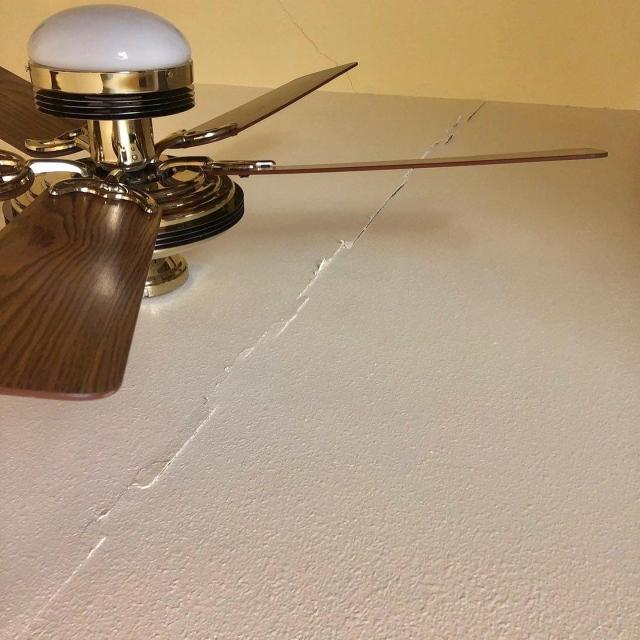Crack: (128, 397, 230, 489), (23, 535, 108, 640), (350, 166, 431, 243), (419, 95, 493, 157), (285, 230, 348, 299), (276, 2, 346, 64), (212, 326, 272, 388), (85, 488, 134, 536), (275, 299, 330, 336), (348, 74, 362, 95)
